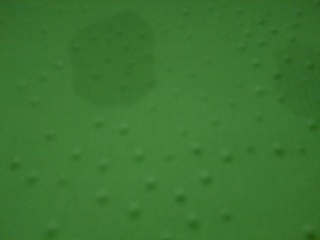Water_detected: (86, 20, 182, 99), (277, 78, 291, 99)
